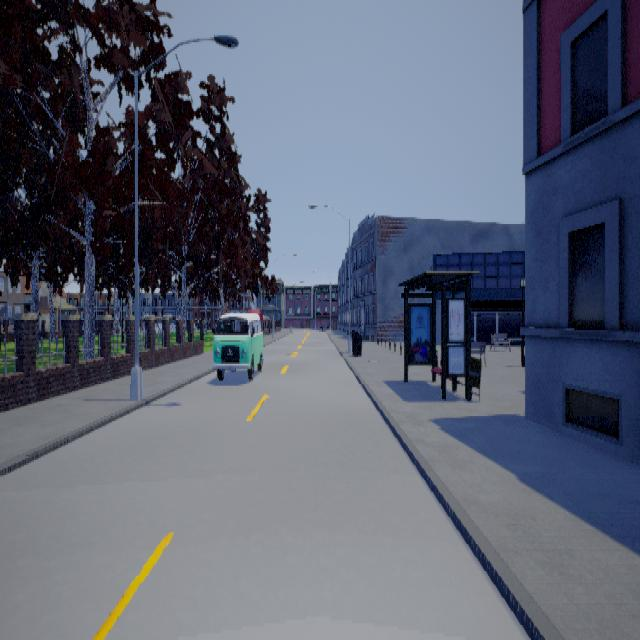vehicle: (211, 312, 263, 379)
